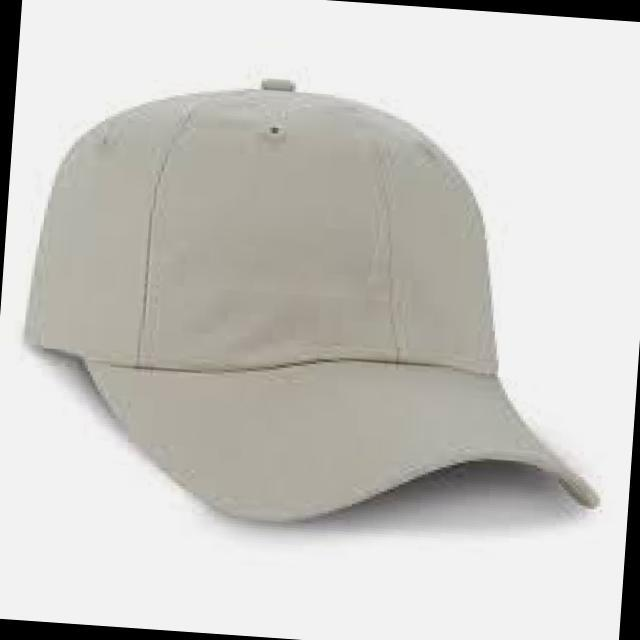cap: (7, 29, 640, 593)
